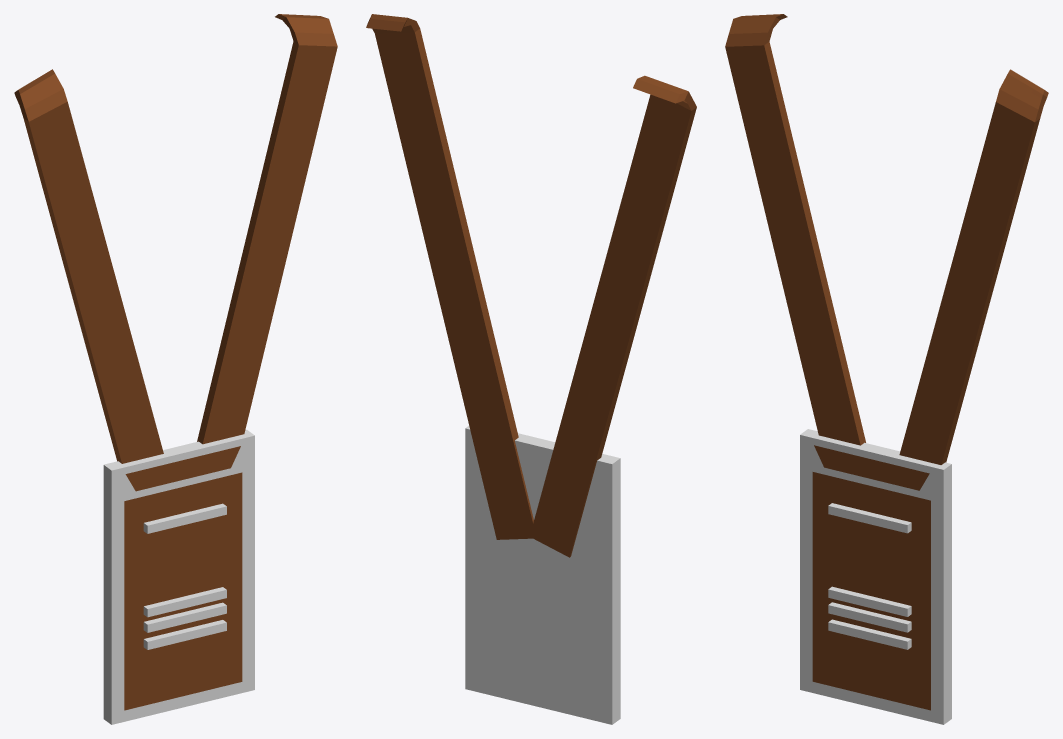
The model's file is constructor_face_model_3.gltf.
3 renders of one model, left to right at view 1: azimuth 30°, elevation 25°; view 2: azimuth 150°, elevation 25°; view 3: azimuth 330°, elevation 25°, orthographic. The views are drawn at different scales.
Parts seen in each view (by area): view 1: Куб.001; view 2: Куб.001; view 3: Куб.001.
Part boxes in pixels (box(x1,y1,x2,y2)): Куб.001: box(14, 14, 337, 724); Куб.001: box(366, 14, 696, 724); Куб.001: box(725, 14, 1048, 724).
Size of the model in its own units: 15.34 by 30.77 by 2.53.
